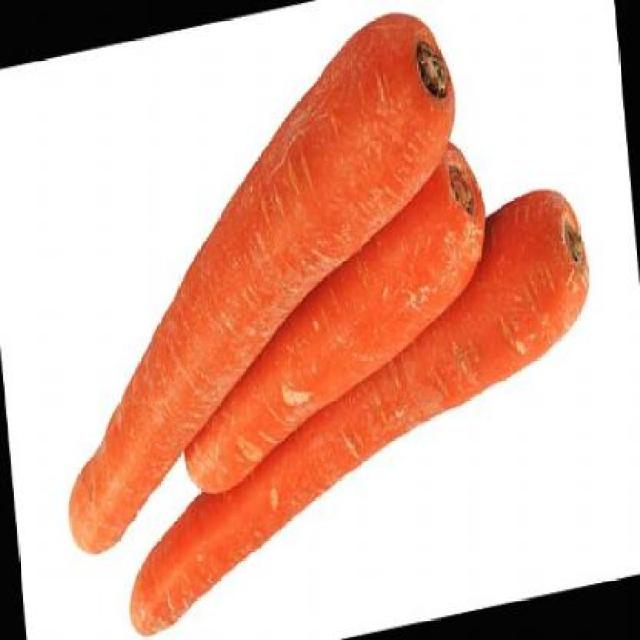carrot: (28, 0, 488, 558), (99, 180, 612, 637), (161, 132, 504, 499)
